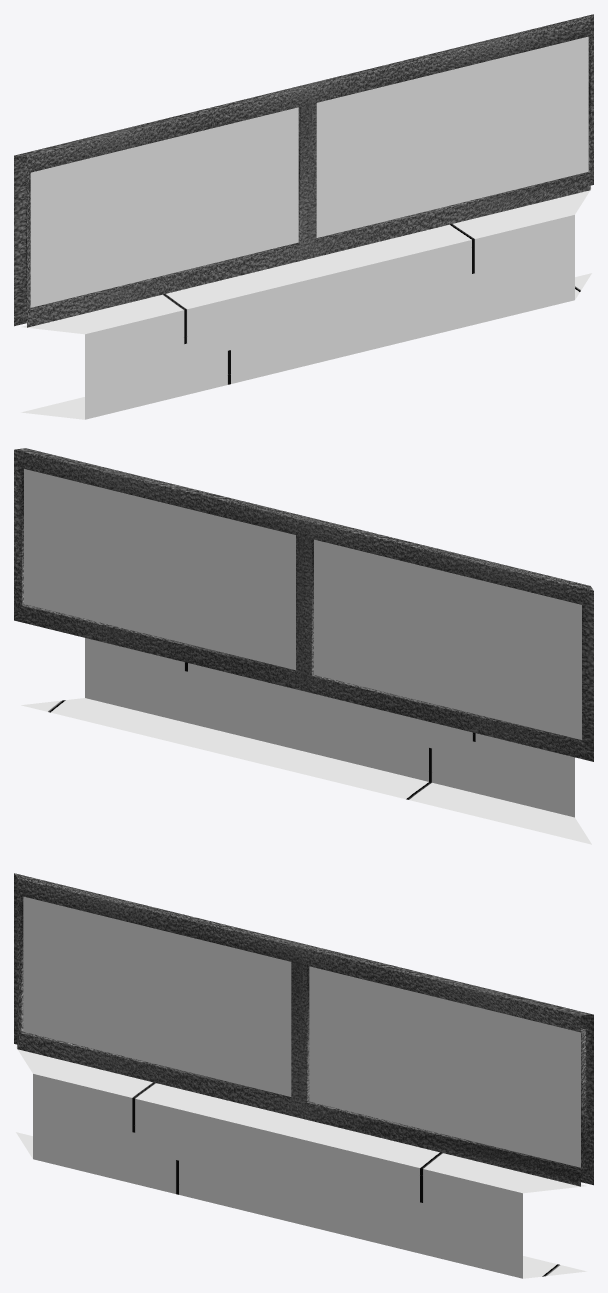
Rendered from Parapet02_350cmAngle5.FBX.
3 views of the same model, one above another, from view 1: azimuth 30°, elevation 25°; view 2: azimuth 150°, elevation 25°; view 3: azimuth 330°, elevation 25° (orthographic).
Parts seen in each view (by area): view 1: Parapet02_350cmAngle5; view 2: Parapet02_350cmAngle5; view 3: Parapet02_350cmAngle5.
Part boxes in pixels (x1,y1,x2,y2): Parapet02_350cmAngle5: [14, 14, 593, 419]; Parapet02_350cmAngle5: [14, 448, 593, 844]; Parapet02_350cmAngle5: [14, 873, 593, 1278].
Bounding box in the file's own units: 355 × 150 × 27.5.
